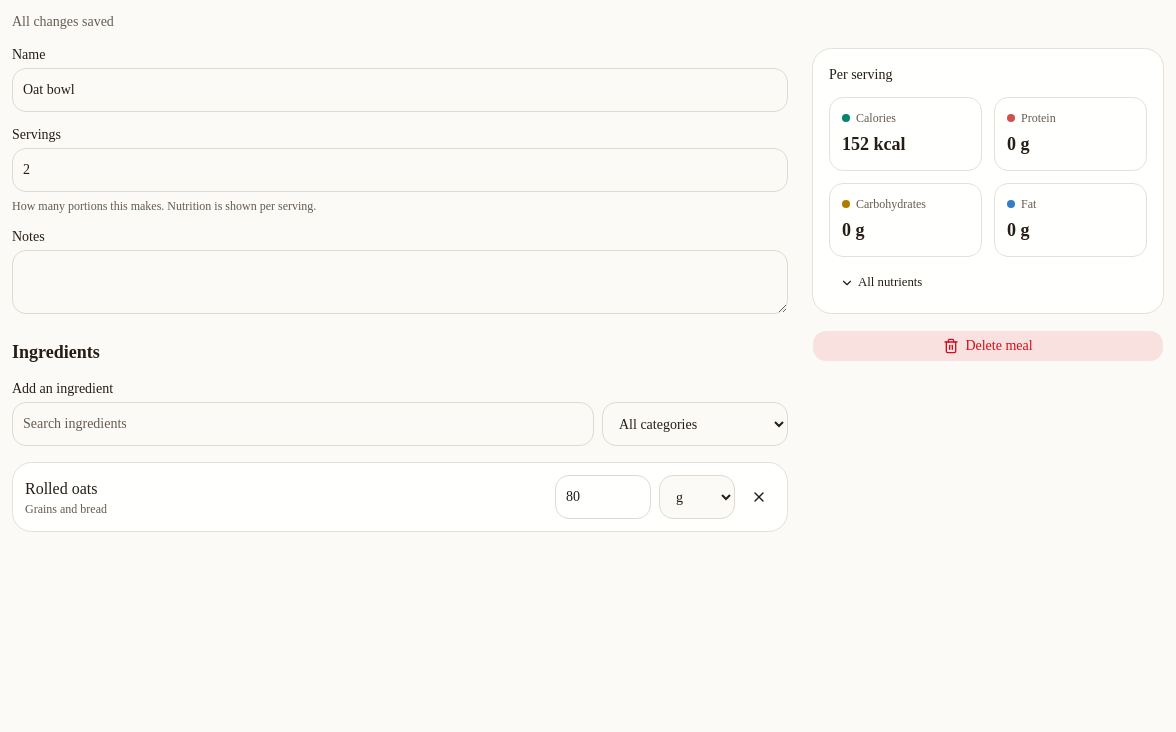
Test: MealEditor › removes an ingredient and saves the shorter list
The width and height of the screenshot is (1176, 732).
Click the button named "Remove Rolled oats" at [759, 497], box [743,481,775,513]
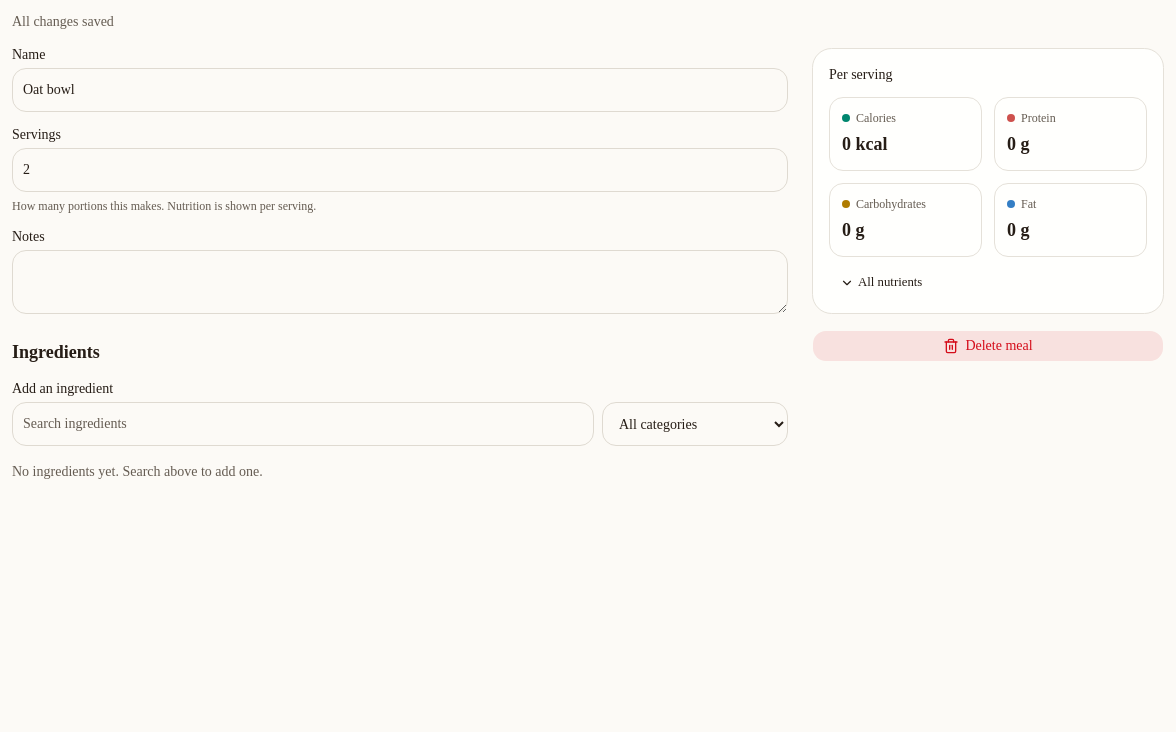
Expected: the text "No ingredients yet. Search above to add one." is shown, [12,464,263,479]
